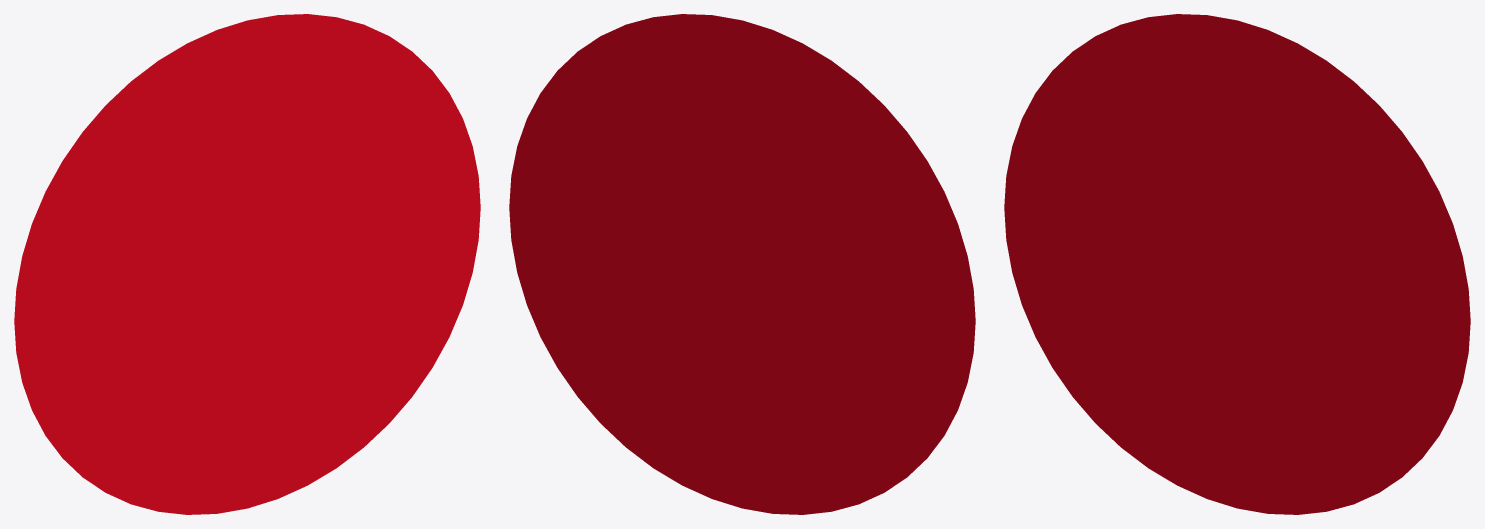
File: teleport.glb
3 renders of one model, left to right at view 1: azimuth 30°, elevation 25°; view 2: azimuth 150°, elevation 25°; view 3: azimuth 330°, elevation 25°, orthographic.
Visible parts, largest first — view 1: portal; view 2: portal; view 3: portal.
Boxes of the visible parts, x1=… form: portal: x1=14, y1=14, x2=480, y2=514; portal: x1=509, y1=14, x2=975, y2=514; portal: x1=1004, y1=14, x2=1470, y2=514.
Bounding box in the file's own units: 13 × 13 × 0.
